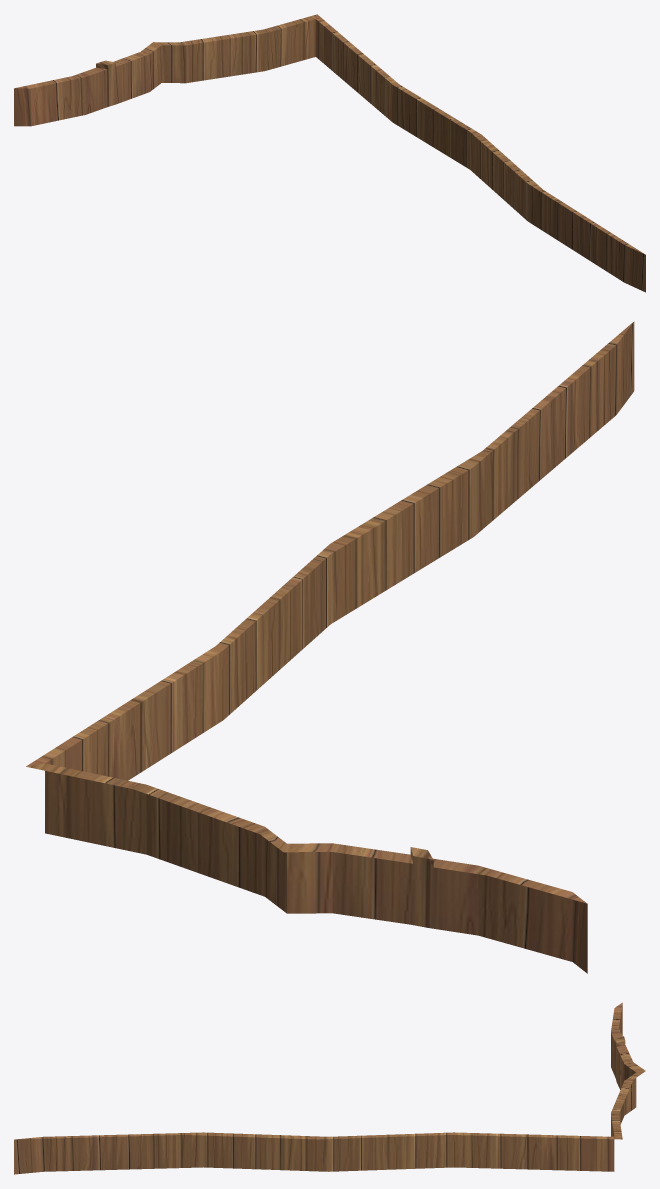
File: FENCE.obj
The picture shows the model from 3 angles, top to bottom: view 1: azimuth 30°, elevation 25°; view 2: azimuth 150°, elevation 25°; view 3: azimuth 270°, elevation 25°; orthographic projection. The views are drawn at different scales.
Visible parts, largest first — view 1: Plane.002; view 2: Plane.002; view 3: Plane.002.
Part boxes in pixels (box(x1,y1,x2,y2)): Plane.002: box(14, 14, 645, 292); Plane.002: box(26, 321, 634, 973); Plane.002: box(14, 1002, 645, 1174).
Bounding box in the file's own units: 6.45 × 0.8525 × 12.56.
